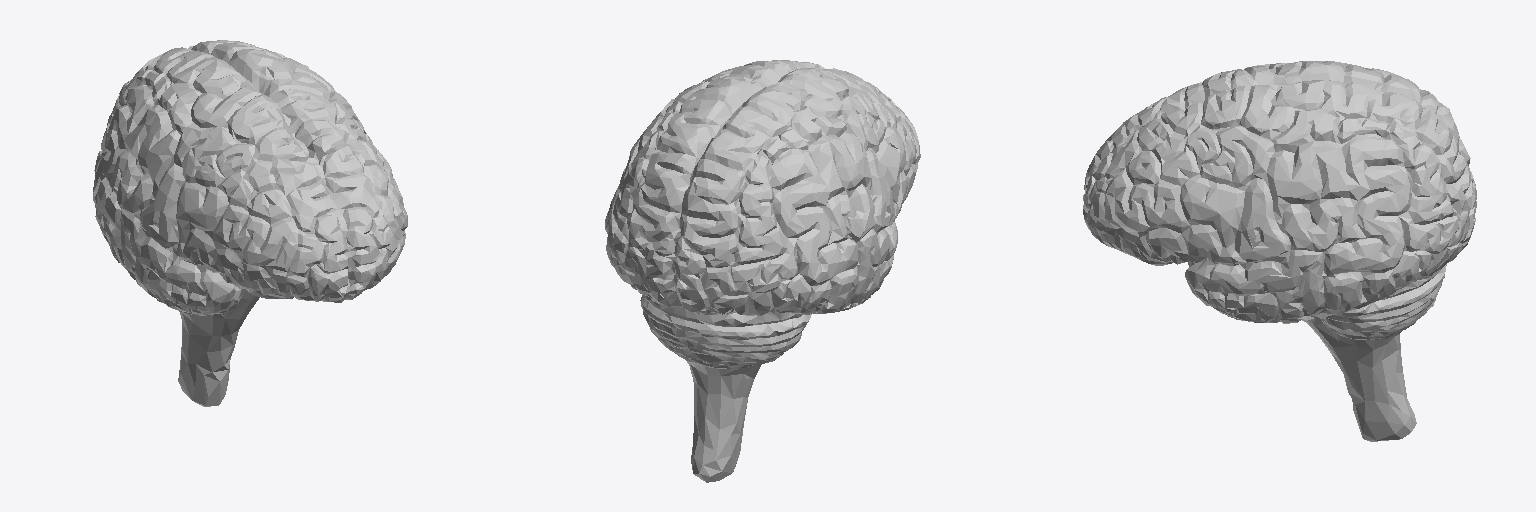
3 views of the same model, side by side, from view 1: azimuth 30°, elevation 25°; view 2: azimuth 150°, elevation 25°; view 3: azimuth 270°, elevation 25° (orthographic).
Parts seen in each view (by area): view 1: AnyConv.com__brain; view 2: AnyConv.com__brain; view 3: AnyConv.com__brain.
Boxes of the visible parts, box(x1,y1,x2,y2) form: AnyConv.com__brain: box(93, 40, 407, 406); AnyConv.com__brain: box(605, 60, 920, 482); AnyConv.com__brain: box(1083, 61, 1476, 441).
Bounding box in the file's own units: 236 × 353 × 344.